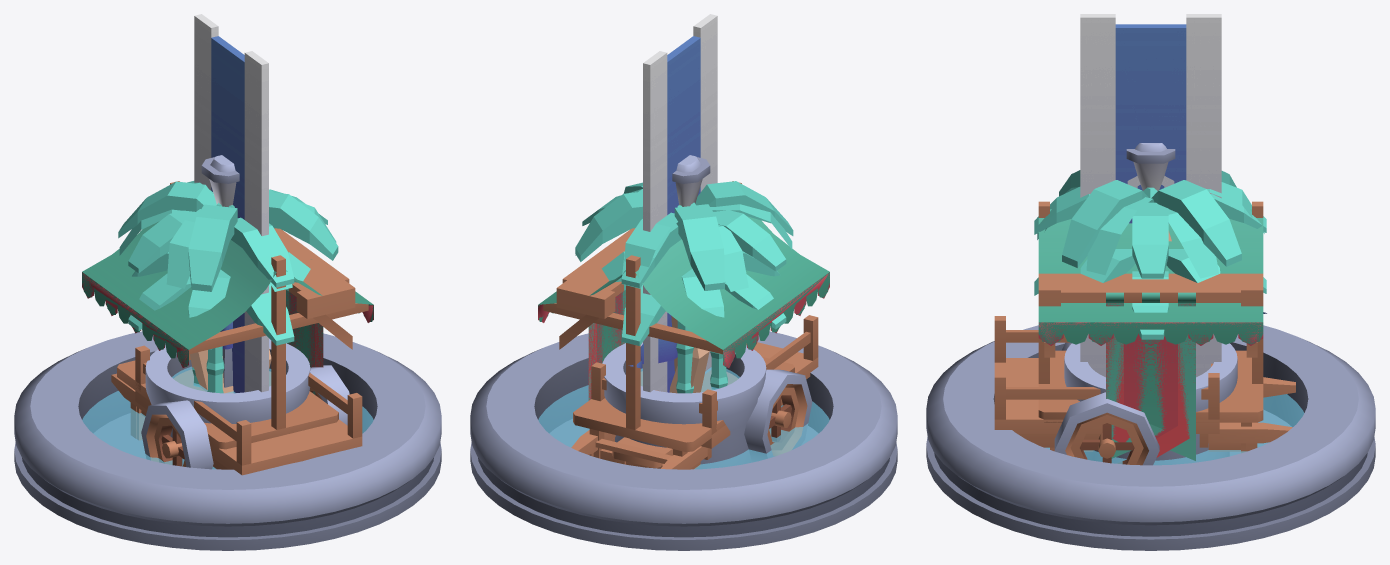
The model's file is props.glb.
3 renders of one model, left to right at view 1: azimuth 30°, elevation 25°; view 2: azimuth 150°, elevation 25°; view 3: azimuth 270°, elevation 25°, orthographic. The views are drawn at different scales.
Parts seen in each view (by area): view 1: P_fountain_round_detail, P_flag_banner_long, P_stall_green, P_cart, P_tree_palmDetailedTall, P_tree_palmDetailedShort, P_overhang, P_stall, P_tree_palmBend, P_lantern, P_banner_green, P_stall_red (+2 smaller); view 2: P_fountain_round_detail, P_stall_green, P_flag_banner_long, P_tree_palmDetailedTall, P_cart, P_tree_palmDetailedShort, P_stall, P_overhang, P_tree_palmBend, P_crops_bambooStageB, P_lantern, P_banner_green (+4 smaller); view 3: P_fountain_round_detail, P_flag_banner_long, P_cart, P_stall_green, P_tree_palmDetailedTall, P_banner_green, P_overhang, P_banner_red, P_stall, P_tree_palmBend, P_tree_palmDetailedShort, P_lantern (+1 smaller).
Part boxes in pixels (<box>): P_fountain_round_detail: <box>14,331,441,550</box>; P_flag_banner_long: <box>194,14,268,392</box>; P_stall_green: <box>82,181,373,429</box>; P_cart: <box>111,345,362,475</box>; P_tree_palmDetailedTall: <box>118,181,338,393</box>; P_tree_palmDetailedShort: <box>128,252,310,391</box>; P_overhang: <box>274,228,355,349</box>; P_stall: <box>117,360,338,450</box>; P_tree_palmBend: <box>119,181,336,368</box>; P_lantern: <box>201,155,239,387</box>; P_banner_green: <box>286,259,323,394</box>; P_stall_red: <box>82,272,373,367</box>; P_fountain_round_detail: <box>470,331,897,550</box>; P_stall_green: <box>538,181,829,429</box>; P_flag_banner_long: <box>643,14,717,392</box>; P_tree_palmDetailedTall: <box>575,181,793,372</box>; P_cart: <box>571,315,818,469</box>; P_tree_palmDetailedShort: <box>601,251,786,393</box>; P_stall: <box>573,357,794,469</box>; P_overhang: <box>556,228,635,349</box>; P_tree_palmBend: <box>575,182,792,291</box>; P_crops_bambooStageB: <box>676,321,727,393</box>; P_lantern: <box>672,155,710,206</box>; P_banner_green: <box>588,290,625,400</box>; P_fountain_round_detail: <box>926,325,1375,550</box>; P_flag_banner_long: <box>1080,14,1221,377</box>; P_cart: <box>994,316,1295,465</box>; P_stall_green: <box>1038,201,1263,383</box>; P_tree_palmDetailedTall: <box>1034,170,1266,278</box>; P_banner_green: <box>1106,292,1195,460</box>; P_overhang: <box>1038,273,1263,357</box>; P_banner_red: <box>1106,303,1195,457</box>; P_stall: <box>1038,350,1263,452</box>; P_tree_palmBend: <box>1037,182,1264,278</box>; P_tree_palmDetailedShort: <box>1034,249,1266,339</box>; P_lantern: <box>1126,143,1175,190</box>.
Bounding box in the file's own units: 2 × 2.22 × 2.
Materials: 52 (22 with a texture image).
